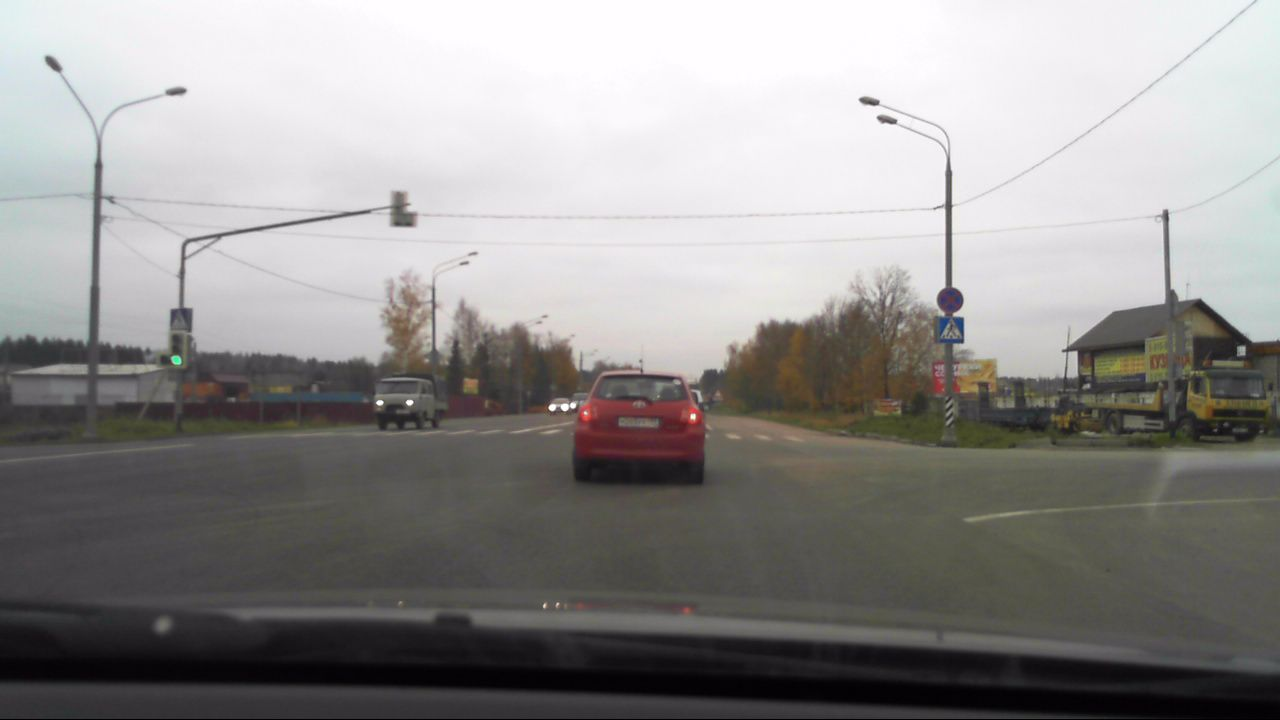No Parking: (935, 286, 965, 315)
